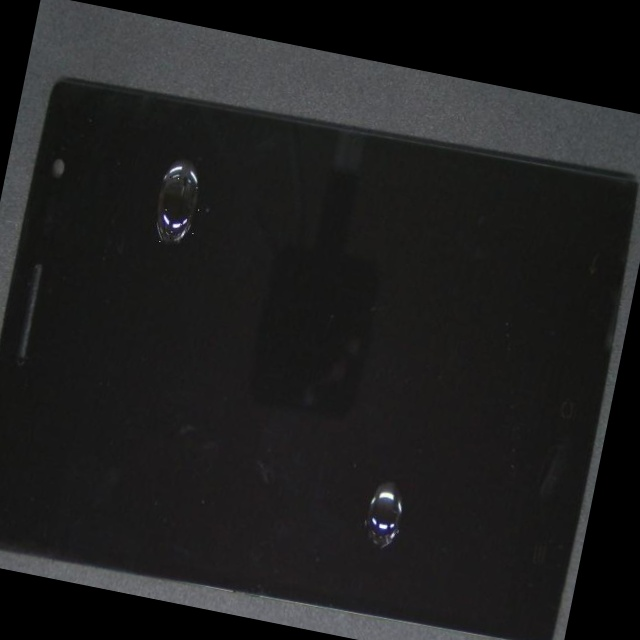oil: (130, 207, 627, 640), (87, 58, 269, 255)
